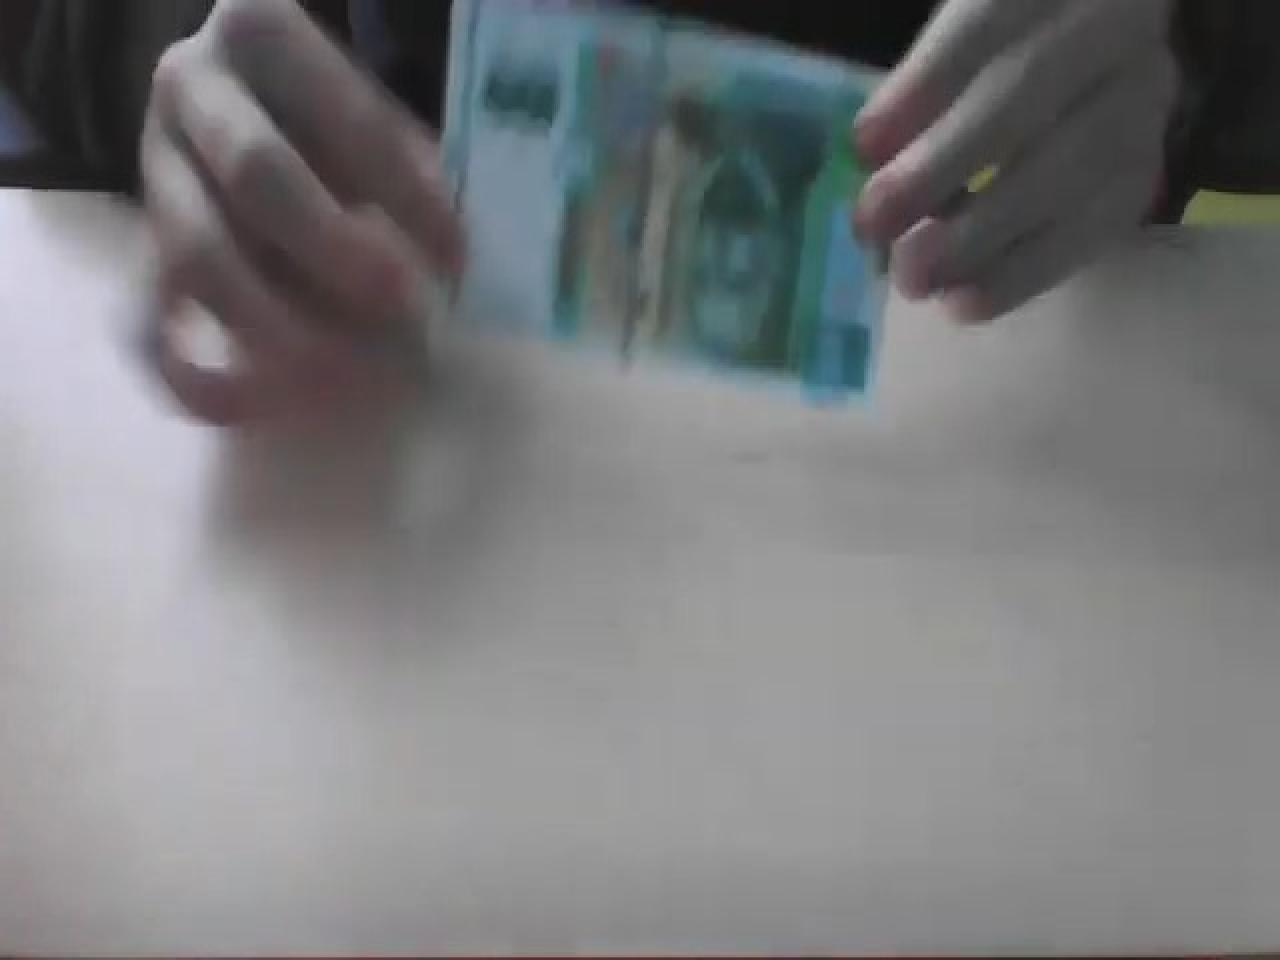100leva: (436, 0, 902, 410)
